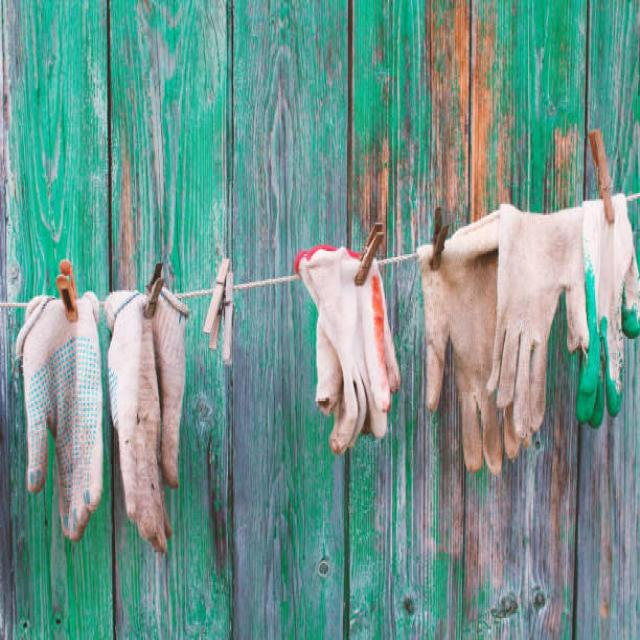Gloves: (420, 193, 534, 486), (465, 198, 594, 437), (100, 271, 196, 561), (293, 234, 404, 466), (16, 280, 111, 549), (552, 185, 640, 436)
